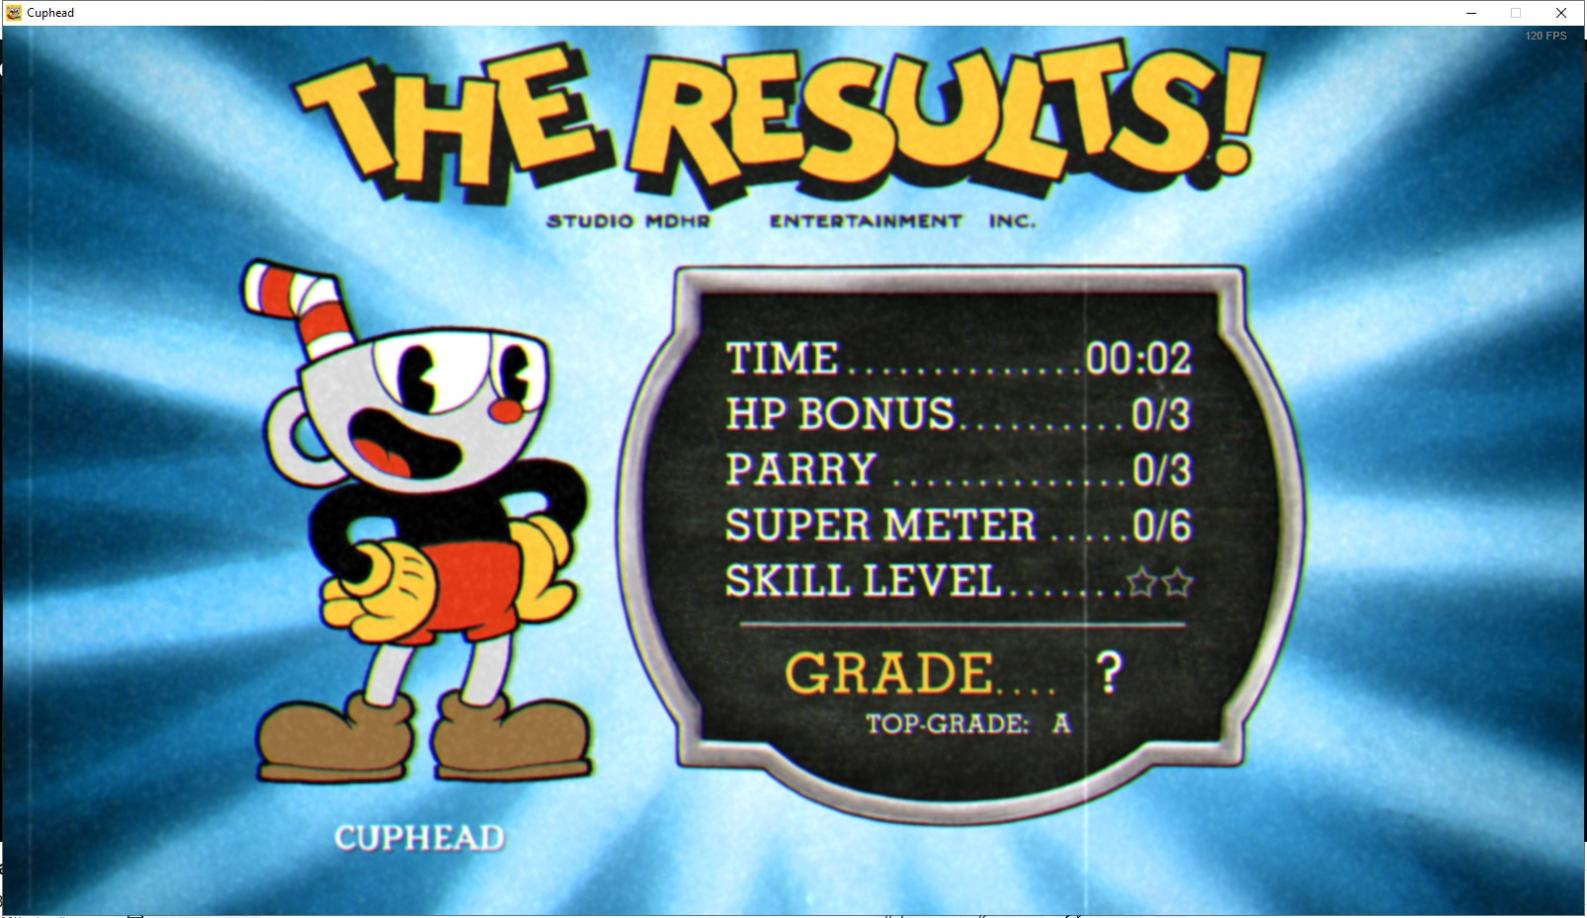win_results: (280, 34, 1293, 238)
